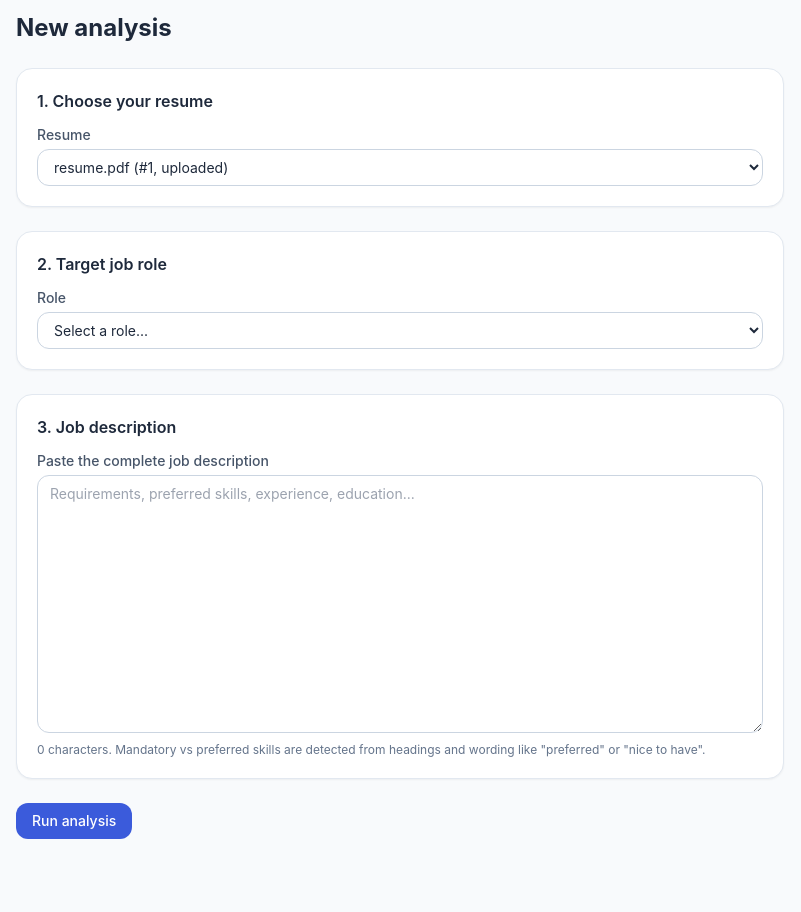
job targeting form › shows API errors (e.g. resume not extracted) instead of failing silently
Select "Backend Developer" in the dropdown labelled "Role". click: (400, 330)
box: [37, 312, 763, 349]
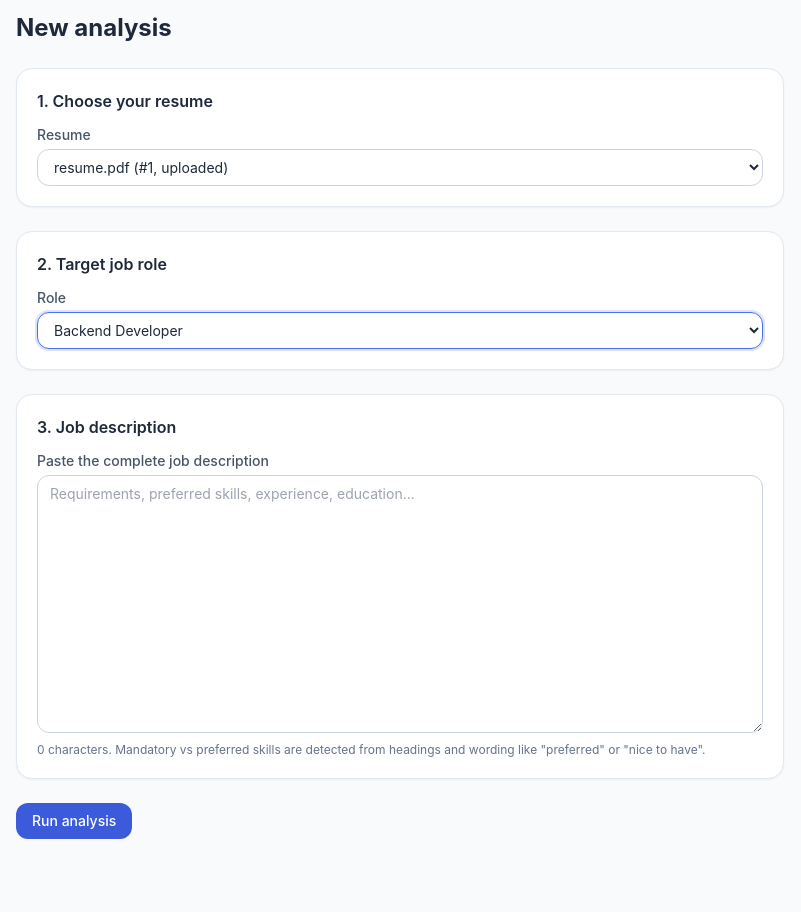
Click the text box labelled "Paste the complete job description". click: (400, 604)
box: [37, 475, 763, 733]
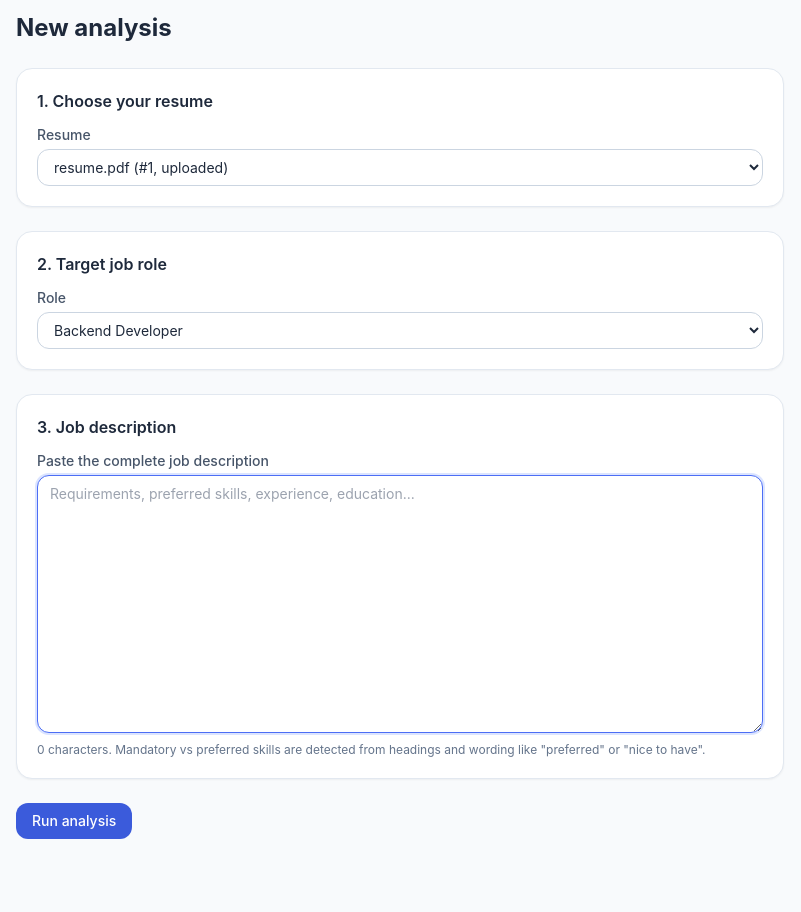
Type keys "Requirements: Strong proficiency in Python and FastAPI. Experience with PostgreSQL and REST APIs. Bachelor's degree."
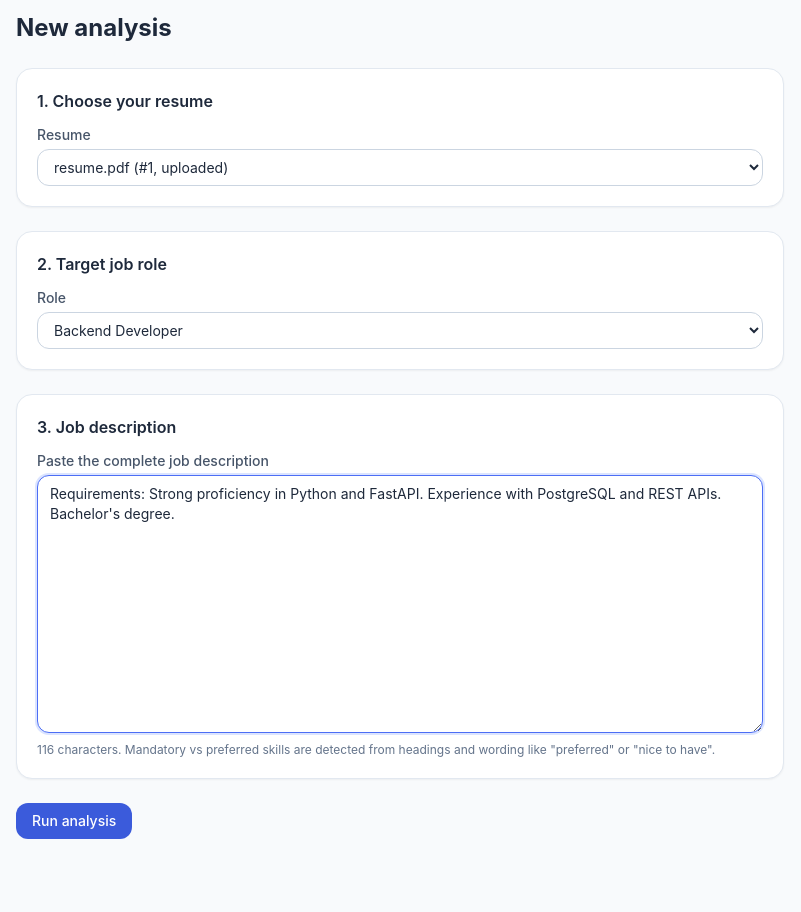
Click the button "Run analysis". click: (74, 821)
box: [16, 803, 132, 839]
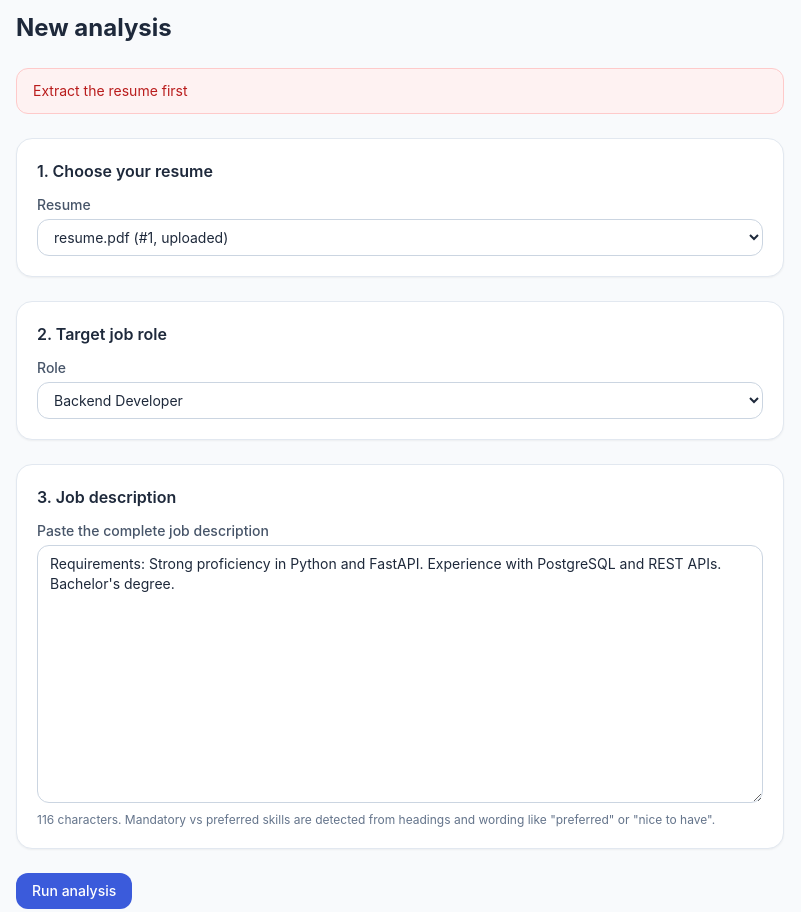
Now the message reads "Extract the resume first", box [33, 82, 188, 99]
